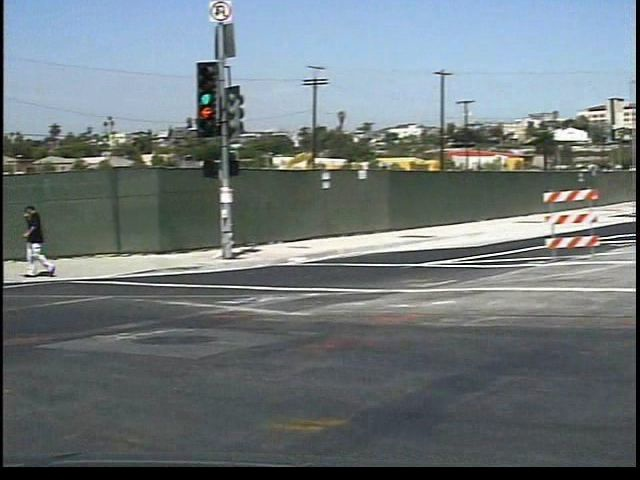person: (13, 197, 50, 285)
